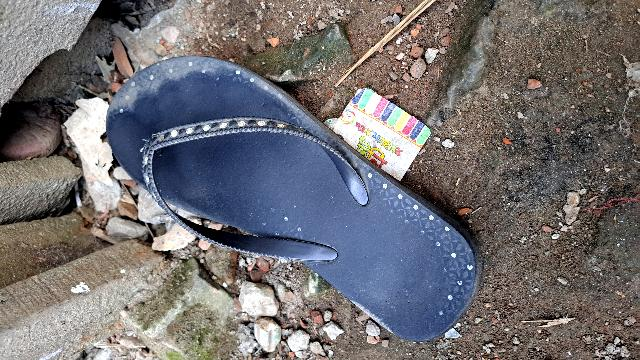sandal: (78, 21, 506, 357)
